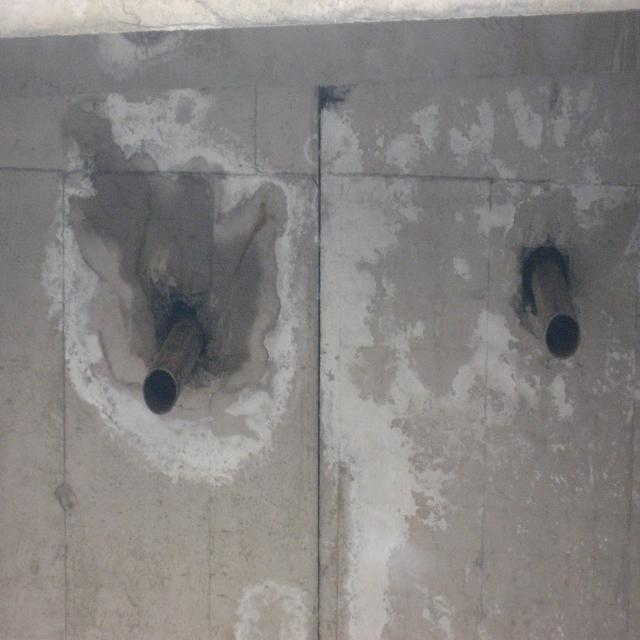corrosion: (136, 289, 234, 412), (521, 232, 587, 362)
